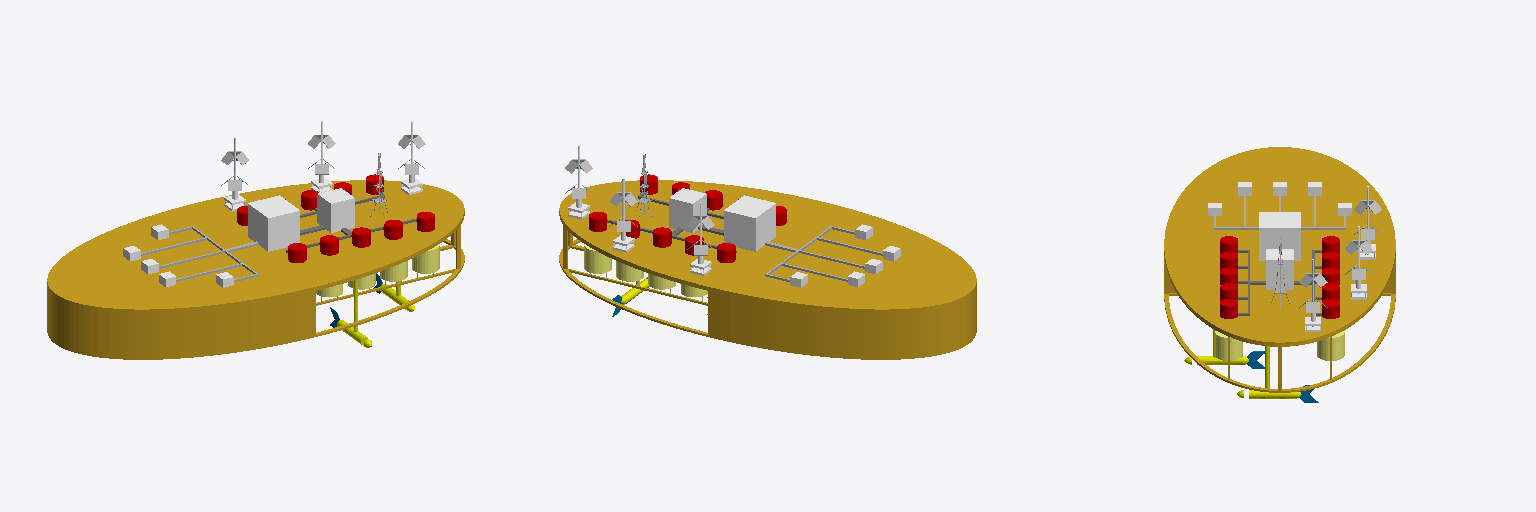
The model's file is main.obj.
3 renders of one model, left to right at view 1: azimuth 30°, elevation 25°; view 2: azimuth 150°, elevation 25°; view 3: azimuth 270°, elevation 25°, orthographic.
Visible parts, largest first — view 1: Joined_Solid_Geometry, Extrusion.044, Extrusion.043, Extrusion.046, Extrusion.045, Extrusion; view 2: Joined_Solid_Geometry, Extrusion.044, Extrusion.043, Extrusion.046, Extrusion.045, Extrusion.019; view 3: Joined_Solid_Geometry, Extrusion.044, Extrusion.043, Extrusion.046, Extrusion, Extrusion.019, Joined_Solid_Geometry.002.
Part boxes in pixels (bbox=[...]): Joined_Solid_Geometry: bbox=[47, 180, 464, 359]; Extrusion.044: bbox=[248, 195, 299, 251]; Extrusion.043: bbox=[317, 188, 354, 232]; Extrusion.046: bbox=[123, 224, 233, 287]; Extrusion.045: bbox=[141, 226, 258, 281]; Extrusion: bbox=[412, 244, 439, 273]; Joined_Solid_Geometry: bbox=[559, 180, 976, 359]; Extrusion.044: bbox=[724, 195, 775, 251]; Extrusion.043: bbox=[669, 188, 706, 232]; Extrusion.046: bbox=[790, 224, 900, 287]; Extrusion.045: bbox=[765, 226, 882, 281]; Extrusion.019: bbox=[584, 244, 611, 273]; Joined_Solid_Geometry: bbox=[1164, 147, 1395, 392]; Extrusion.044: bbox=[1259, 212, 1300, 260]; Extrusion.043: bbox=[1266, 249, 1293, 289]; Extrusion.046: bbox=[1208, 182, 1351, 215]; Extrusion: bbox=[1215, 331, 1242, 360]; Extrusion.019: bbox=[1317, 331, 1344, 360]; Joined_Solid_Geometry.002: bbox=[1249, 346, 1301, 398].
Size of the model in its own units: 10 by 3.83 by 5.